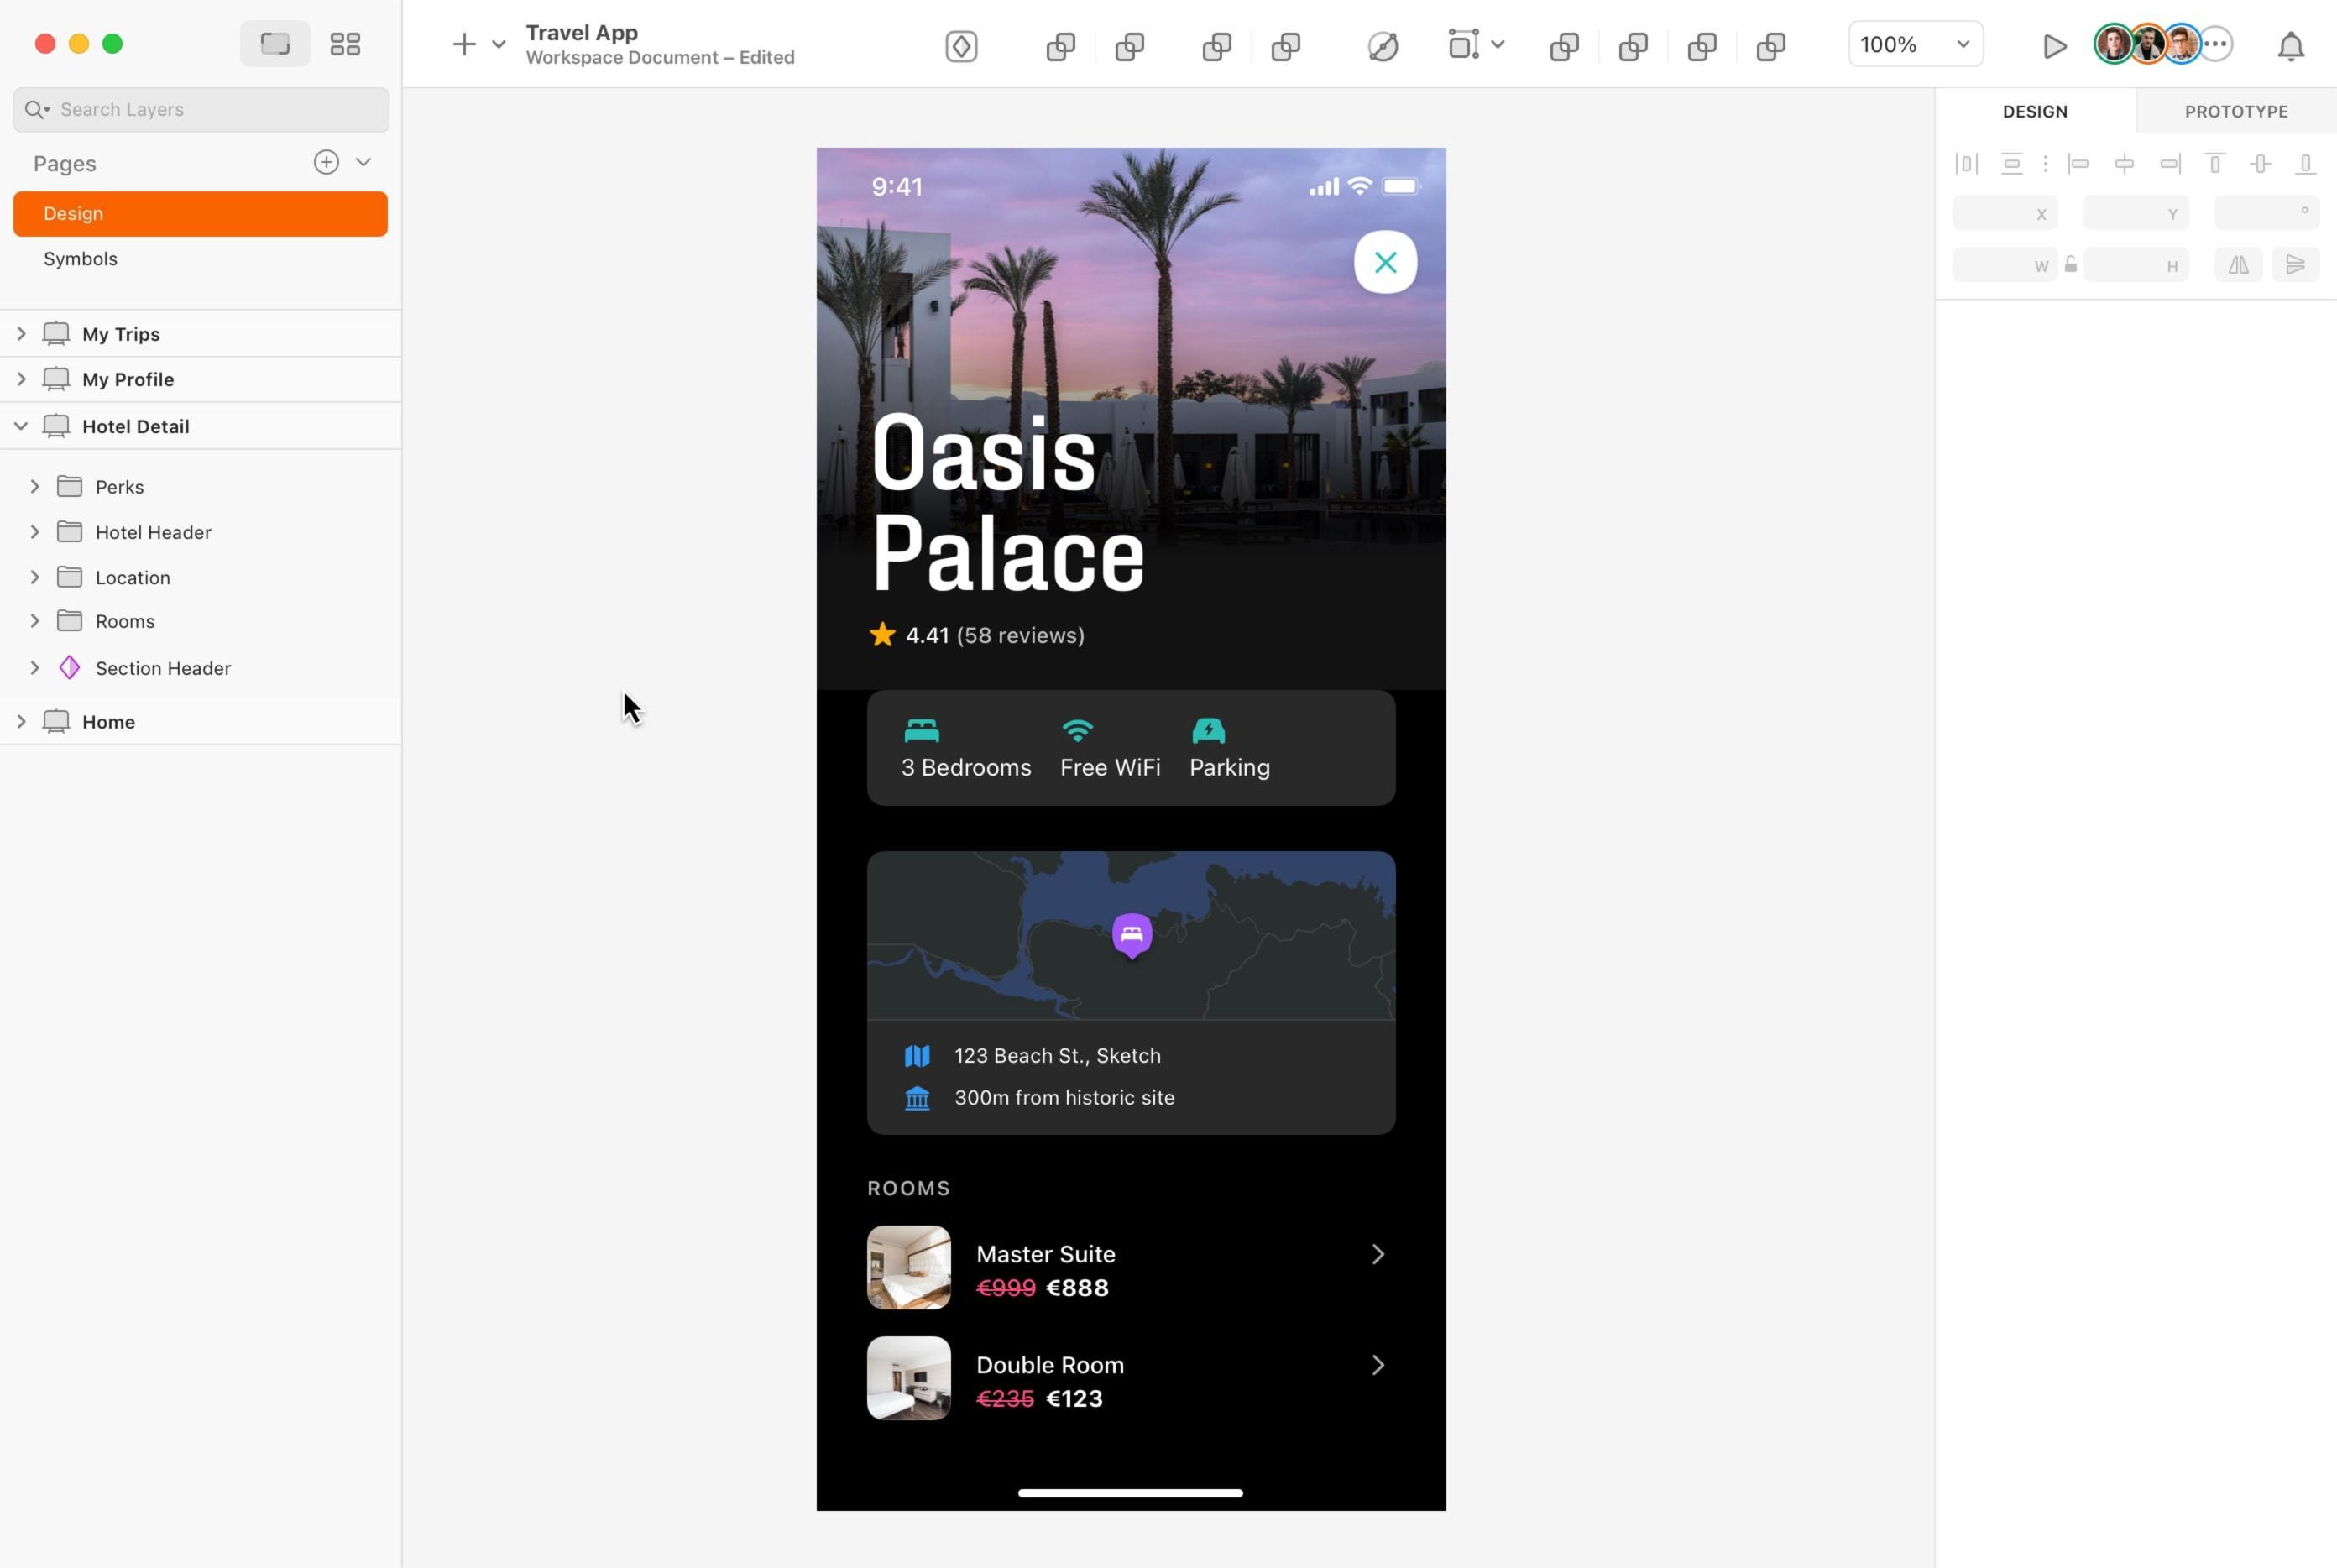button: (16, 191, 388, 236), (1936, 89, 2136, 133), (2138, 87, 2337, 131)
dropdown: (1852, 21, 1984, 68)
icon: (1181, 714, 1242, 756), (896, 709, 948, 754), (1050, 714, 1109, 752), (250, 23, 301, 65), (939, 26, 983, 66), (2274, 26, 2318, 66), (1613, 26, 1653, 66), (1441, 26, 1483, 65), (1368, 240, 1406, 282), (1366, 26, 1403, 68), (1545, 30, 1585, 66), (1753, 28, 1789, 68), (327, 26, 369, 61), (1111, 28, 1149, 65), (1043, 31, 1079, 68), (1270, 26, 1303, 66), (1203, 26, 1235, 66), (1681, 31, 1721, 63), (2040, 28, 2075, 61), (1950, 149, 1984, 180), (2155, 149, 2187, 180), (1998, 149, 2027, 178), (2064, 150, 2094, 178), (2111, 149, 2139, 178), (2292, 150, 2320, 180), (2281, 252, 2313, 278), (2202, 149, 2230, 177), (453, 31, 479, 59), (2246, 152, 2276, 177), (2222, 254, 2253, 276), (2059, 254, 2082, 276), (2041, 149, 2052, 177)
input: (14, 87, 390, 135), (1954, 245, 2059, 285), (2083, 194, 2188, 233), (1954, 194, 2057, 233), (2083, 250, 2192, 285), (2216, 196, 2323, 231)
label: (523, 19, 645, 49), (40, 247, 122, 273)
